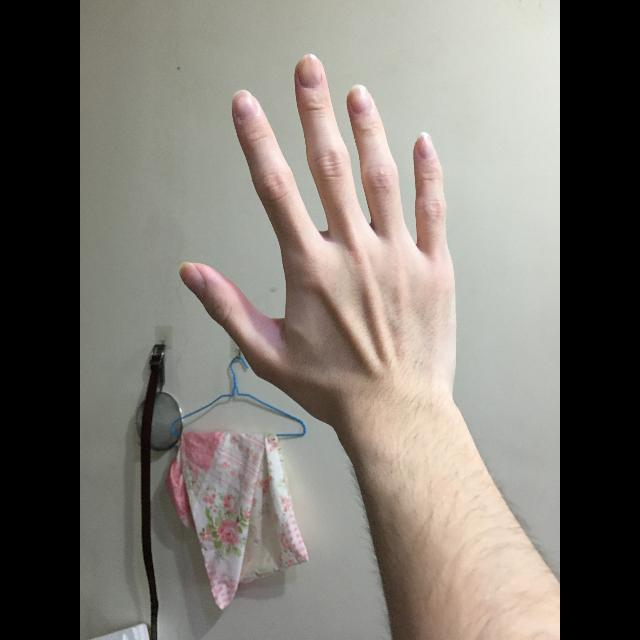bare_hand: (179, 53, 459, 406)
